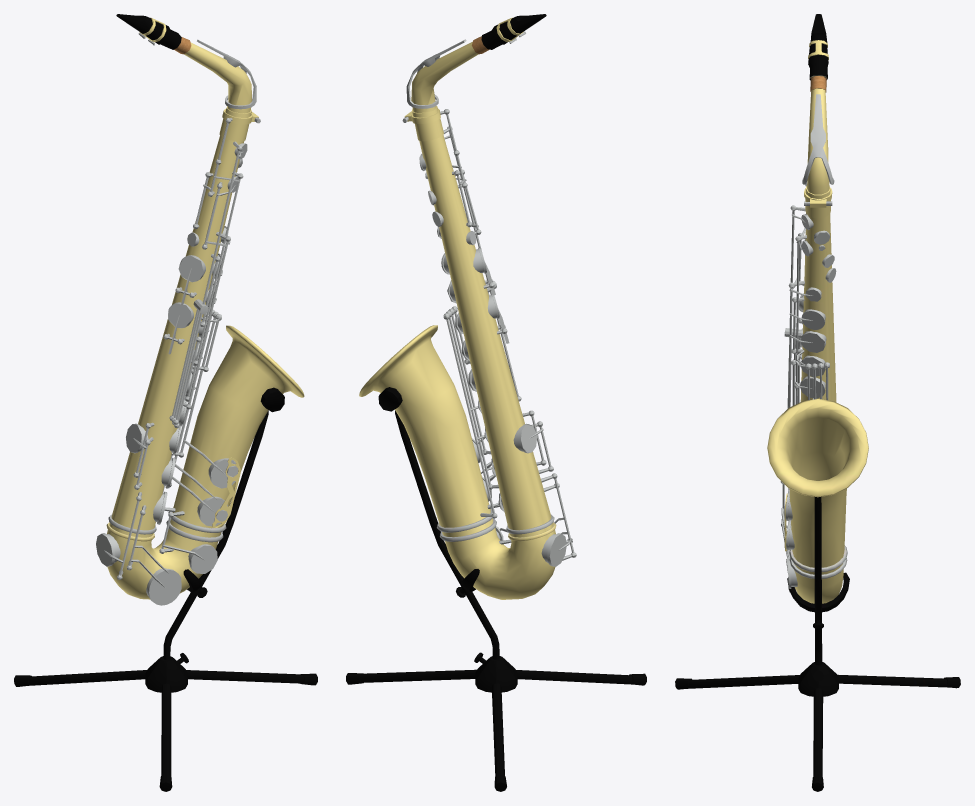
Rendered from saxophone.glb.
3 views of the same model, side by side, from view 1: azimuth 30°, elevation 25°; view 2: azimuth 150°, elevation 25°; view 3: azimuth 270°, elevation 25° (orthographic). The views are drawn at different scales.
Visible parts, largest first — view 1: Saxophone_lambert1_0; view 2: Saxophone_lambert1_0; view 3: Saxophone_lambert1_0.
Part boxes in pixels (x1,y1,x2,y2): Saxophone_lambert1_0: (14, 14, 317, 791); Saxophone_lambert1_0: (346, 14, 646, 791); Saxophone_lambert1_0: (675, 14, 960, 791).
Bounding box in the file's own units: 39.63 × 118 × 44.34.
Materials: 1 (1 with a texture image).
